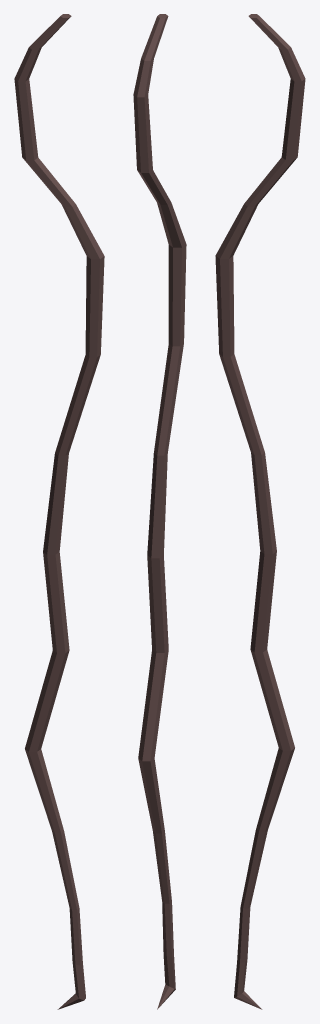
The picture shows the model from 3 angles, left to right: view 1: azimuth 90°, elevation 25°; view 2: azimuth 150°, elevation 25°; view 3: azimuth 270°, elevation 25°; orthographic projection.
Parts seen in each view (by area): view 1: Root 1; view 2: Root 1; view 3: Root 1.
Part boxes in pixels (<box>): Root 1: <box>14,14,104,1009</box>; Root 1: <box>133,14,186,1009</box>; Root 1: <box>215,14,305,1009</box>.
Bounding box in the file's own units: 11.76 × 828 × 68.07.
